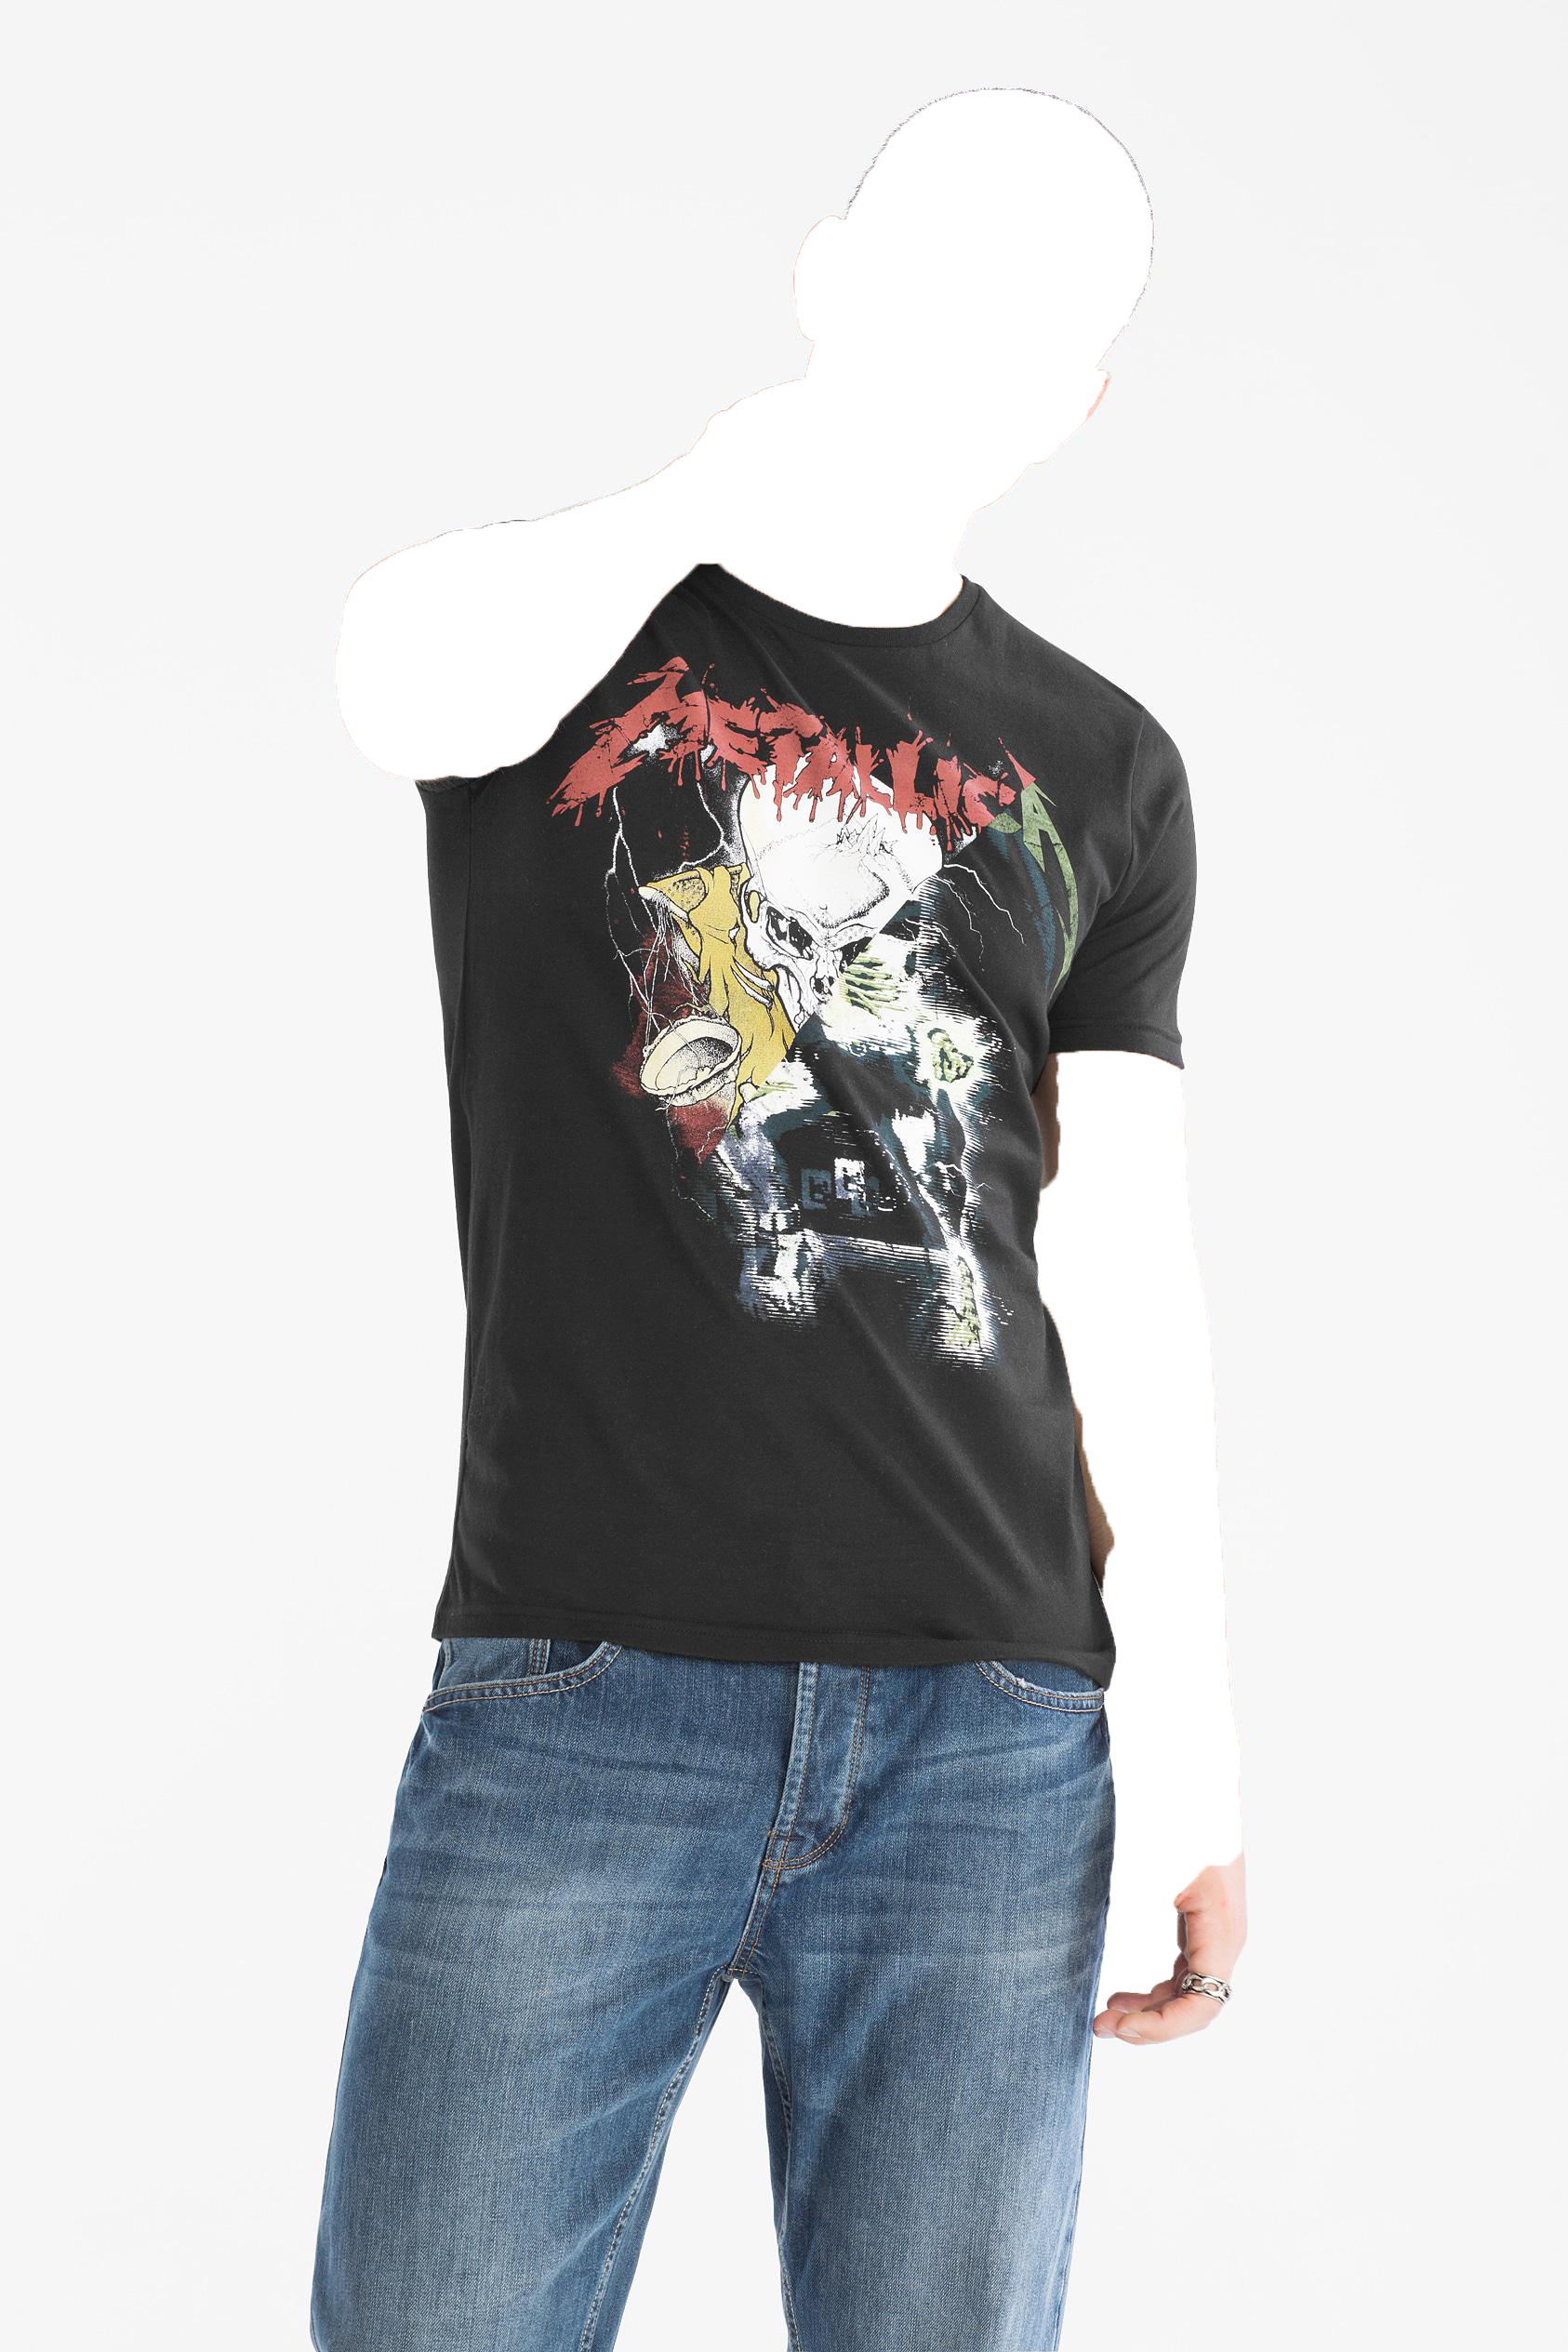teeshirt: (348, 563, 1239, 1734)
